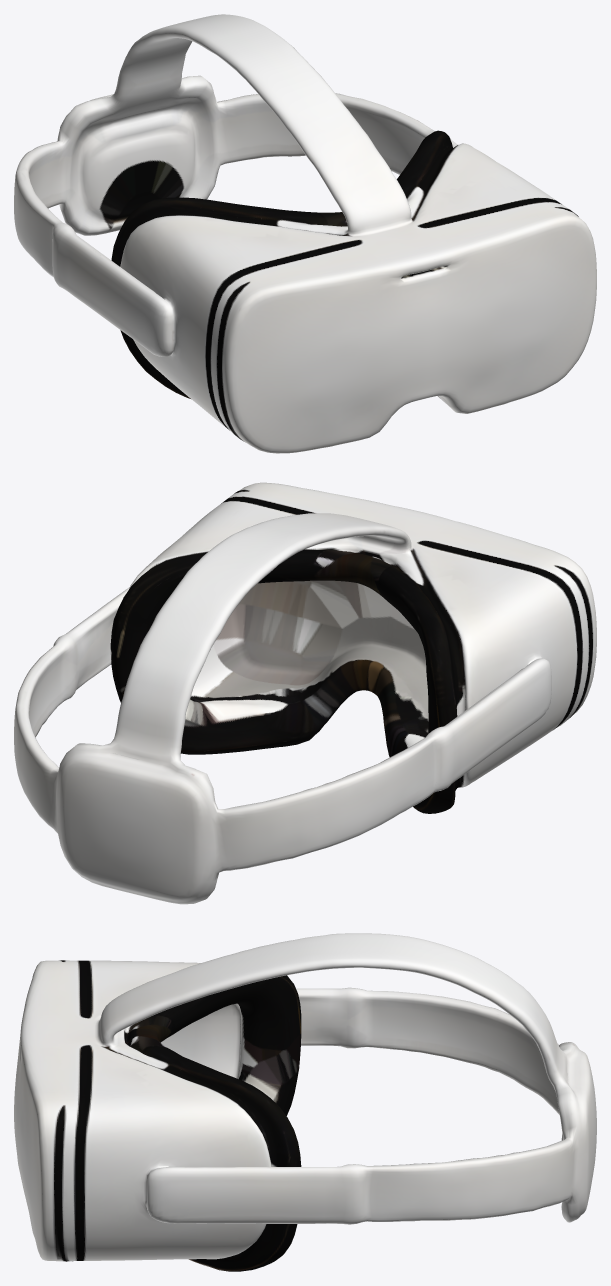
File: vr_headset_simple.glb
3 views of the same model, one above another, from view 1: azimuth 30°, elevation 25°; view 2: azimuth 150°, elevation 25°; view 3: azimuth 270°, elevation 25° (orthographic). The views are drawn at different scales.
Parts seen in each view (by area): view 1: model_1; view 2: model_1; view 3: model_1.
Boxes of the visible parts, box(x1,y1,x2,y2) form: model_1: box(14, 14, 596, 453); model_1: box(14, 482, 596, 904); model_1: box(14, 933, 596, 1271).
Size of the model in its own units: 1.44 by 0.9859 by 1.91.
Materials: 1 (1 with a texture image).
